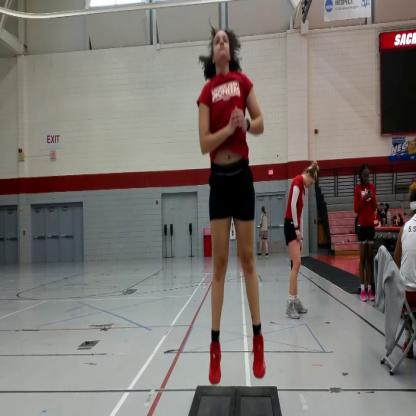lateral_flexion_right: (196, 25, 268, 386)
stance_width_normal: (196, 68, 268, 389)
